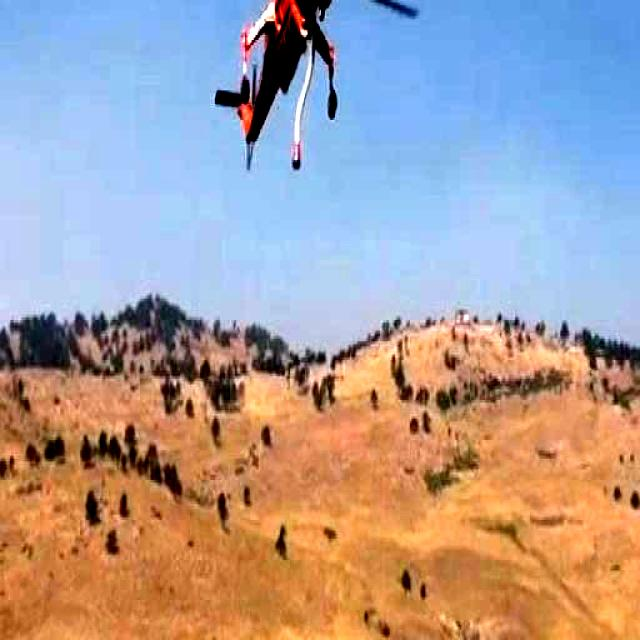drone: (124, 0, 455, 185)
